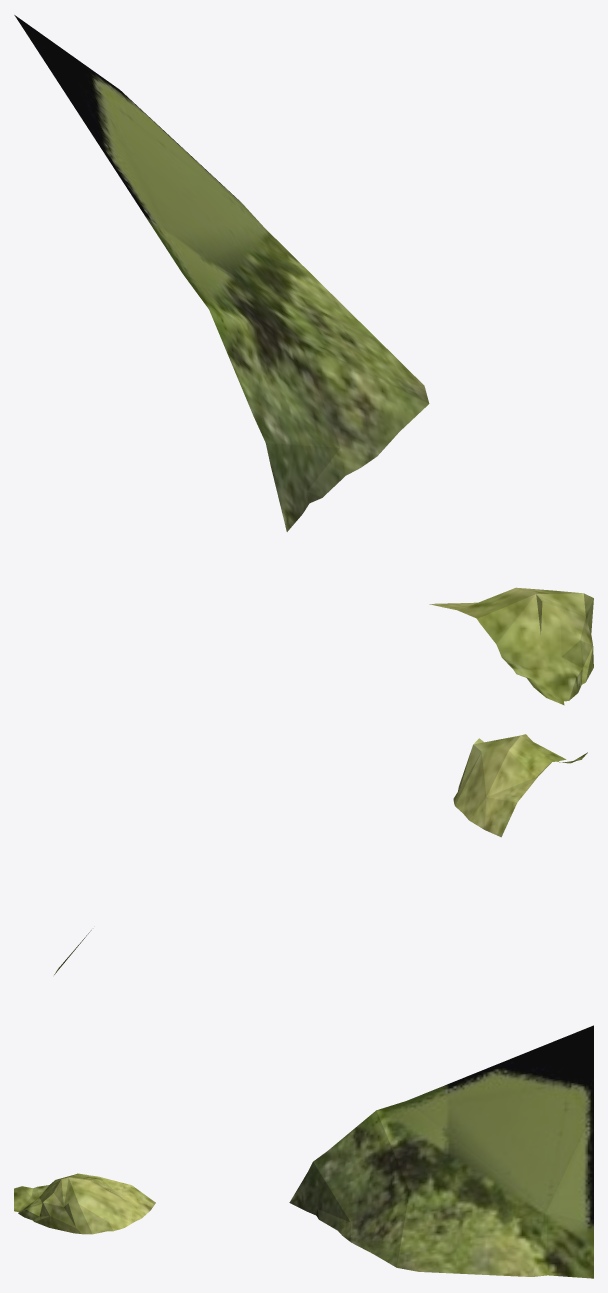
The picture shows the model from 3 angles, top to bottom: view 1: azimuth 30°, elevation 25°; view 2: azimuth 150°, elevation 25°; view 3: azimuth 270°, elevation 25°; orthographic projection. The views are drawn at different scales.
Bounding box in the file's own units: 3.65 × 3.99 × 11.8.
Materials: 1 (1 with a texture image).
